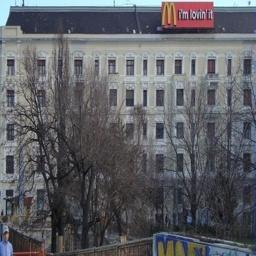building: (0, 5, 256, 234)
